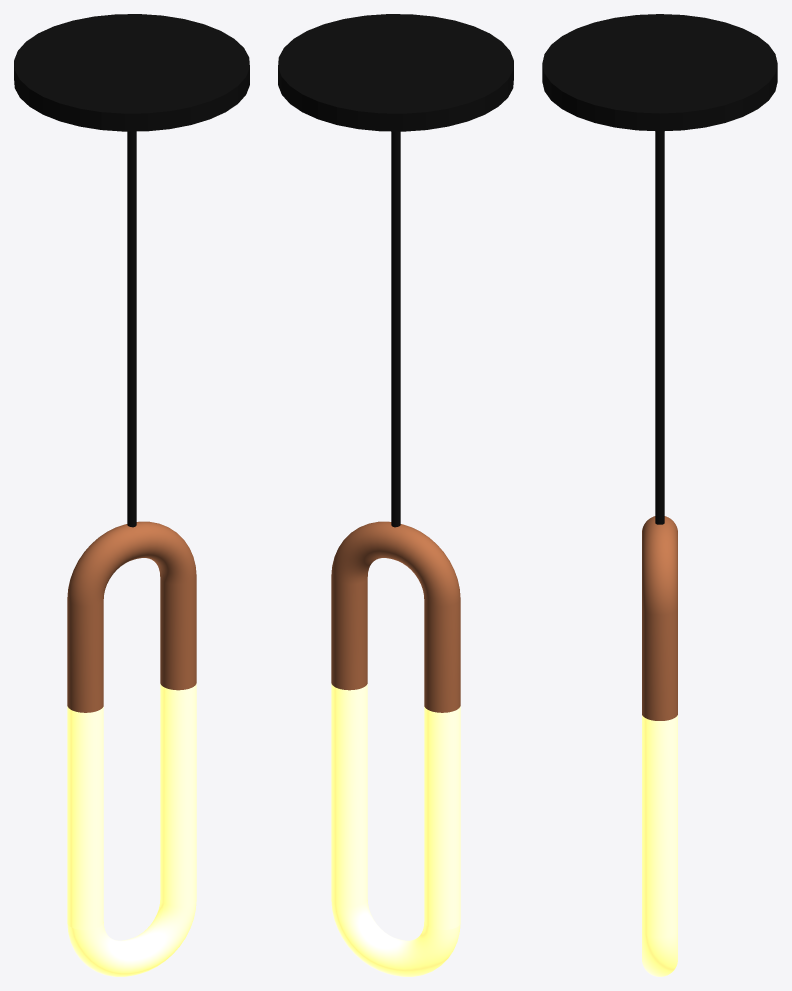
Rendered from u-shaped-pendant-light.glb.
3 renders of one model, left to right at view 1: azimuth 30°, elevation 25°; view 2: azimuth 150°, elevation 25°; view 3: azimuth 270°, elevation 25°, orthographic.
Visible parts, largest first — view 1: u-shaped-pendant-light, Plane.006_81, Plane.005_80; view 2: u-shaped-pendant-light, Plane.006_81, Plane.005_80; view 3: u-shaped-pendant-light, Plane.006_81, Plane.005_80.
Boxes of the visible parts, x1,y1,x2,y2 form: u-shaped-pendant-light: (14, 14, 249, 527); Plane.006_81: (67, 683, 196, 976); Plane.005_80: (67, 521, 196, 712); u-shaped-pendant-light: (278, 14, 513, 527); Plane.006_81: (331, 683, 460, 976); Plane.005_80: (331, 521, 460, 712); u-shaped-pendant-light: (542, 14, 777, 524); Plane.006_81: (642, 715, 677, 976); Plane.005_80: (642, 516, 677, 720).
Bounding box in the file's own units: 0.3912 × 1.67 × 0.3912.
